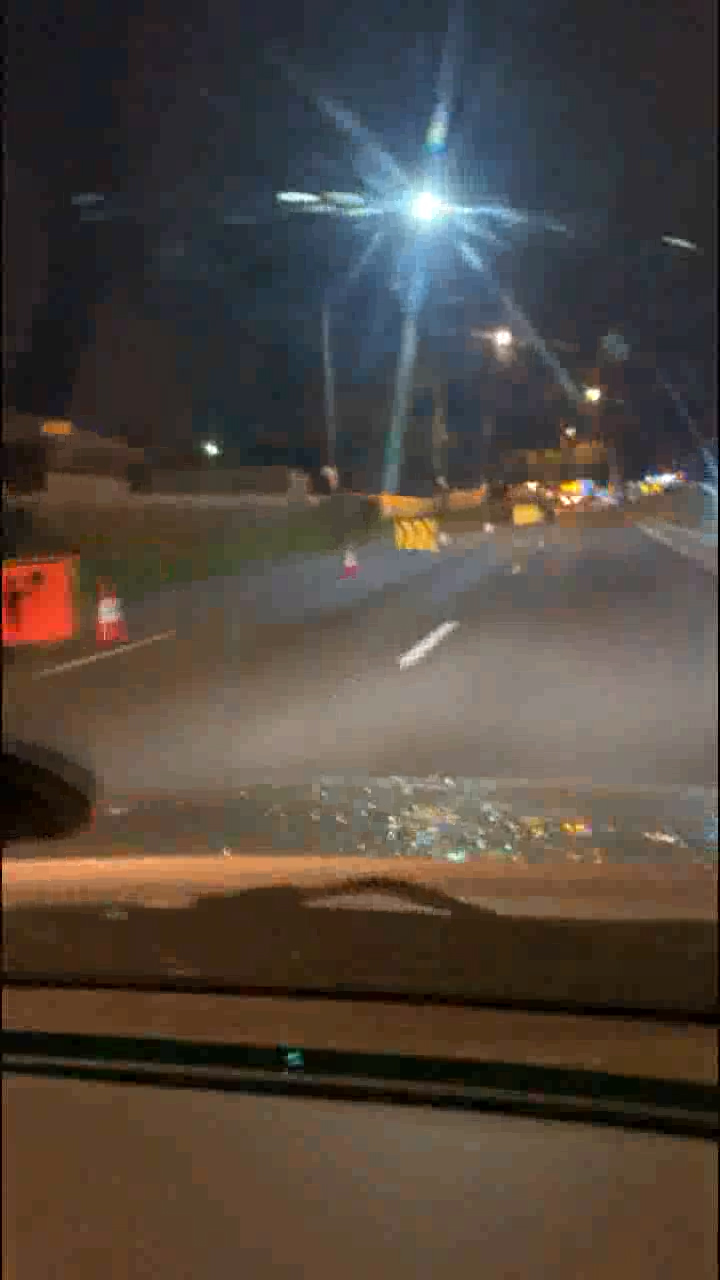road cone: (345, 542, 354, 584)
road works sign board: (4, 565, 75, 644), (391, 519, 439, 555)
